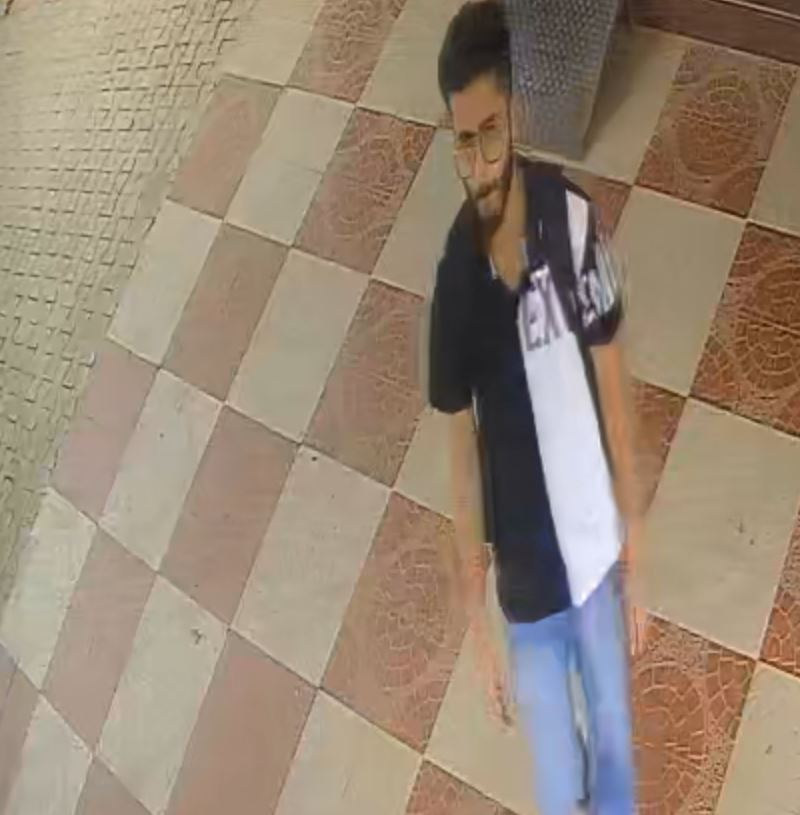intruder: (390, 3, 683, 815)
